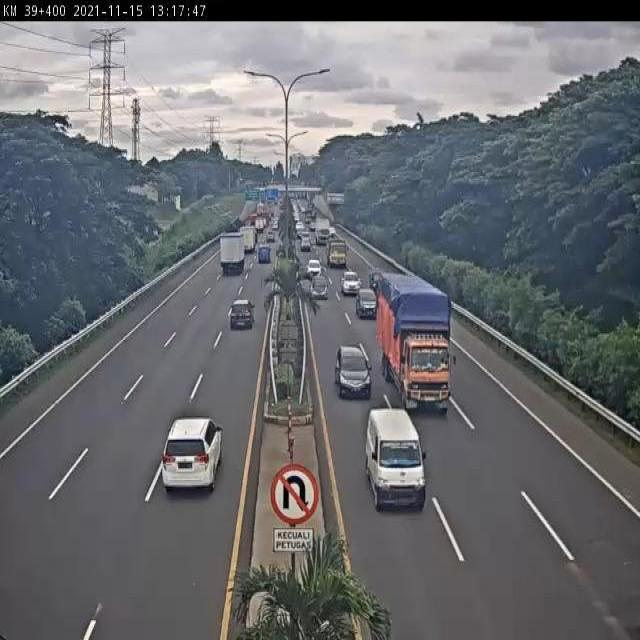bus-s-: (365, 406, 427, 511)
car: (161, 416, 223, 493), (334, 344, 373, 400), (227, 296, 257, 332), (354, 287, 379, 321), (308, 275, 330, 304), (341, 270, 362, 298), (305, 256, 323, 279)
truck-m-: (376, 273, 455, 412), (217, 232, 246, 276), (326, 239, 349, 269)
